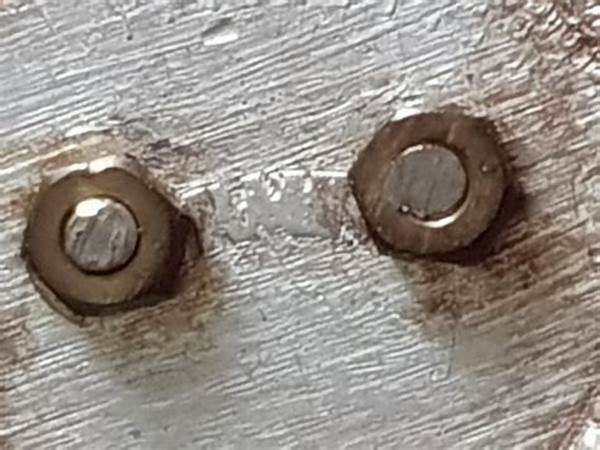bolt_b: (22, 153, 197, 322), (345, 103, 522, 266)
